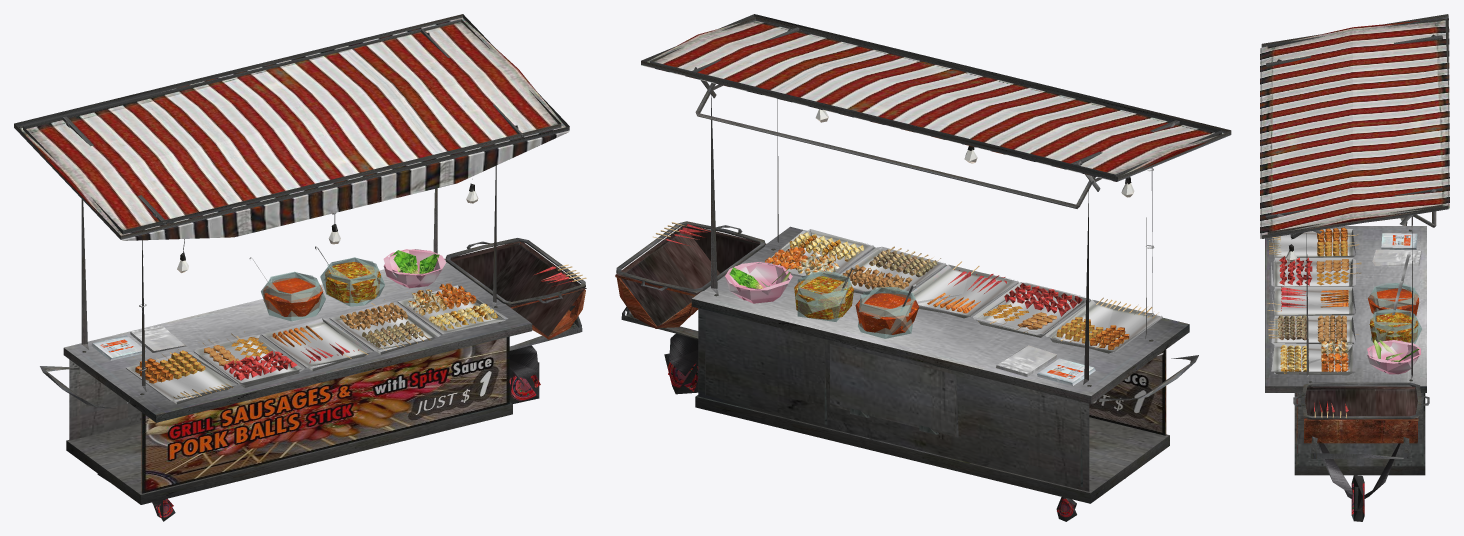
Rendered from z_cart.glb.
3 views of the same model, side by side, from view 1: azimuth 30°, elevation 25°; view 2: azimuth 150°, elevation 25°; view 3: azimuth 270°, elevation 25° (orthographic). The views are drawn at different scales.
Parts seen in each view (by area): view 1: cart, grill, cart_decor, tray04, tray03, tray05, tray02, tray01, blow_glass; view 2: cart, grill, cart_decor, tray04, tray05, tray03, tray02, blow_glass, tray01, light; view 3: cart, grill, cart_decor, tray01, tray04, tray03, tray02, tray05, blow_glass.
Boxes of the visible parts, bbox=[...] form: cart: bbox=[14, 14, 569, 504]; grill: bbox=[40, 238, 586, 521]; cart_decor: bbox=[91, 246, 446, 360]; tray04: bbox=[193, 331, 304, 387]; tray03: bbox=[261, 318, 372, 371]; tray05: bbox=[126, 349, 236, 404]; tray02: bbox=[329, 299, 440, 354]; tray01: bbox=[397, 281, 508, 335]; blow_glass: bbox=[261, 257, 384, 321]; cart: bbox=[641, 14, 1231, 503]; grill: bbox=[615, 221, 1198, 521]; cart_decor: bbox=[725, 262, 1095, 385]; tray04: bbox=[973, 282, 1090, 337]; tray05: bbox=[1045, 297, 1162, 353]; tray03: bbox=[910, 261, 1018, 318]; tray02: bbox=[837, 246, 946, 293]; blow_glass: bbox=[795, 271, 915, 338]; tray01: bbox=[764, 229, 874, 277]; light: bbox=[815, 109, 1164, 355]; cart: bbox=[1260, 14, 1449, 475]; grill: bbox=[1293, 217, 1429, 521]; cart_decor: bbox=[1367, 233, 1421, 374]; tray01: bbox=[1271, 340, 1355, 375]; tray04: bbox=[1271, 256, 1361, 287]; tray03: bbox=[1267, 286, 1355, 316]; tray02: bbox=[1268, 315, 1358, 345]; tray05: bbox=[1268, 227, 1359, 257]; blow_glass: bbox=[1368, 283, 1421, 343].
Bounding box in the file's own units: 3.84 × 2.63 × 1.45.
Materials: 10 (9 with a texture image).
